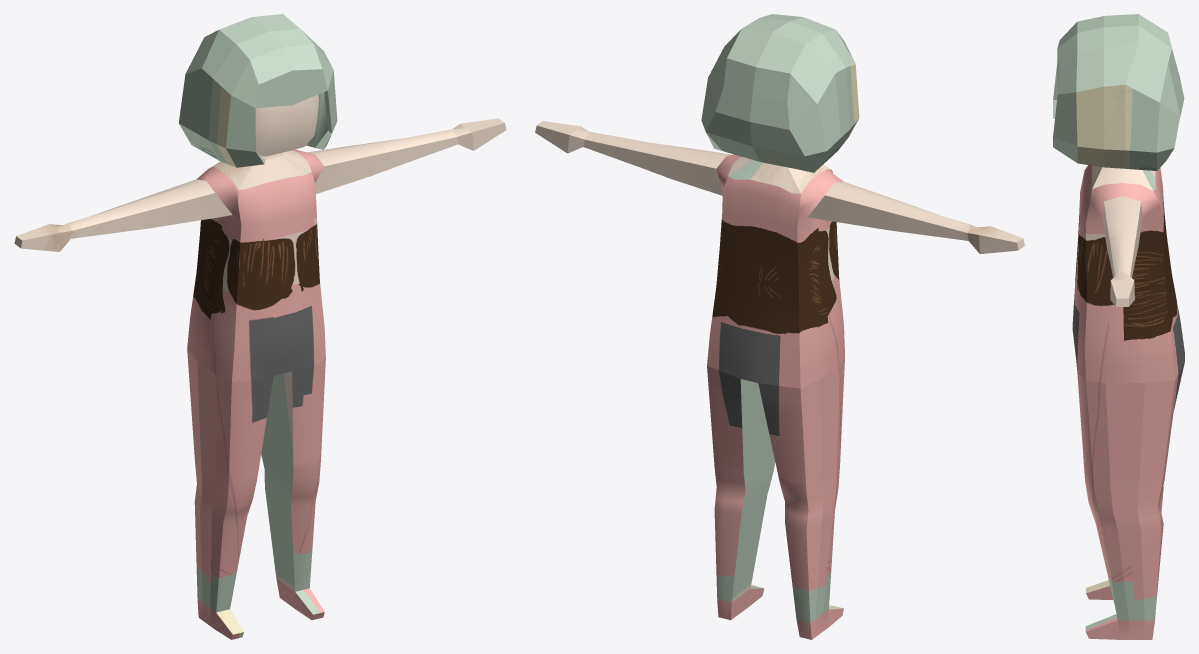
Rendered from Customer3.fbx.
3 views of the same model, side by side, from view 1: azimuth 30°, elevation 25°; view 2: azimuth 150°, elevation 25°; view 3: azimuth 270°, elevation 25° (orthographic).
Visible parts, largest first — view 1: pPlane18; view 2: pPlane18; view 3: pPlane18.
Part boxes in pixels (x1,y1,x2,y2): pPlane18: [14, 14, 506, 639]; pPlane18: [535, 14, 1024, 639]; pPlane18: [1053, 14, 1184, 639].
Bounding box in the file's own units: 2.15 × 2.52 × 0.5085.
